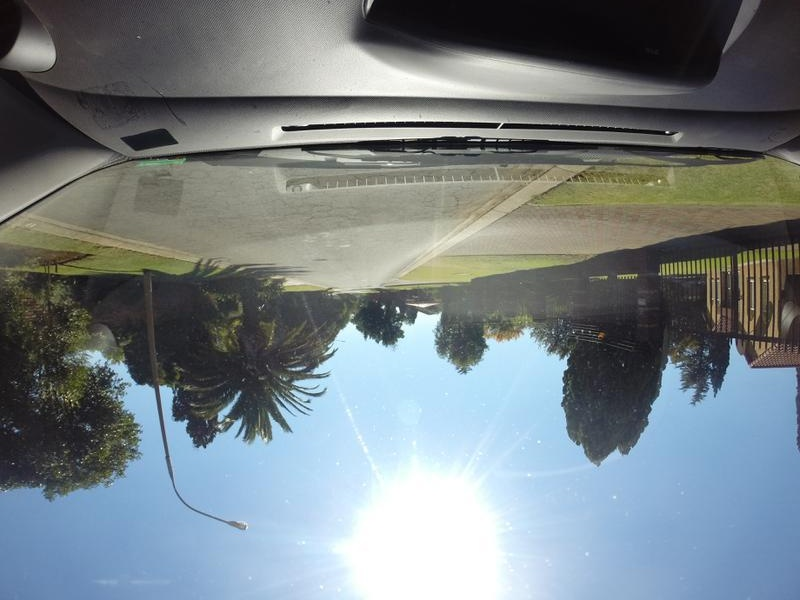pothole: (151, 168, 172, 185)
